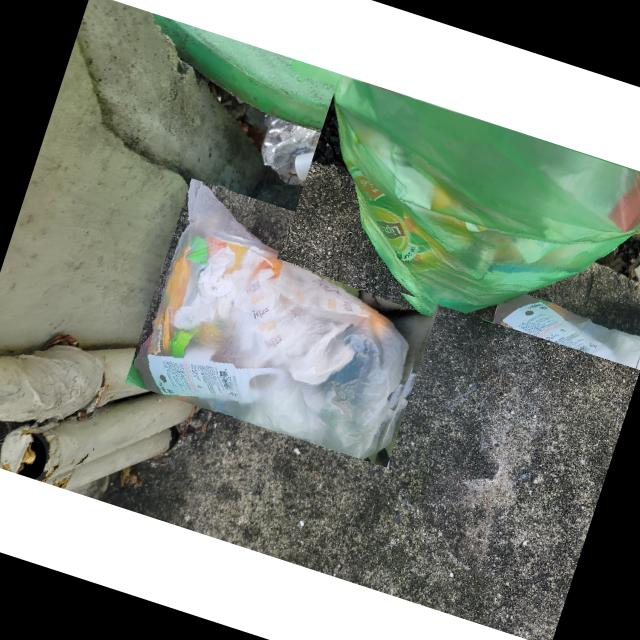other_trashbag: (137, 179, 410, 459), (333, 75, 640, 313)
